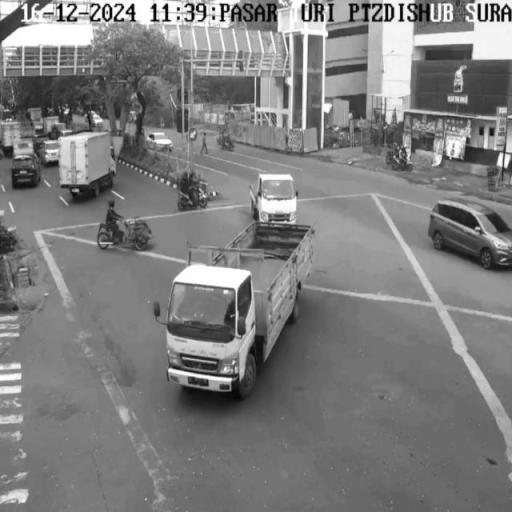car: (430, 195, 512, 276), (11, 154, 43, 190)
motorcycle: (96, 214, 159, 252)
truck: (164, 219, 316, 408), (60, 132, 120, 204)
